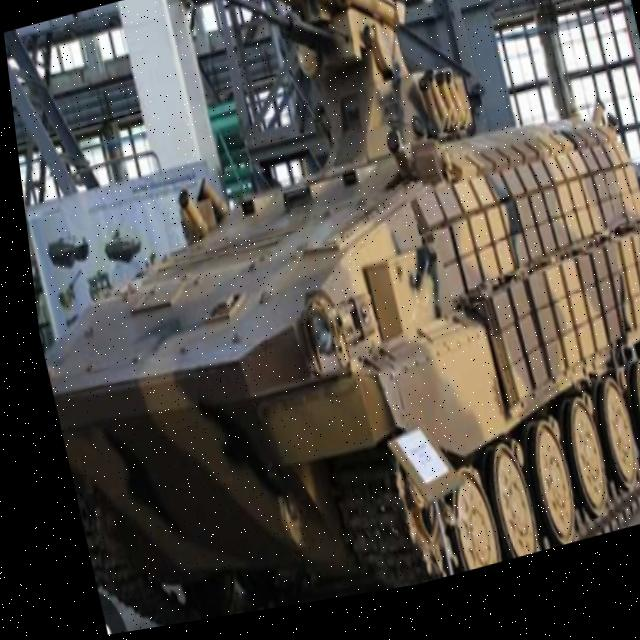MIL_APC: (12, 45, 640, 640)
